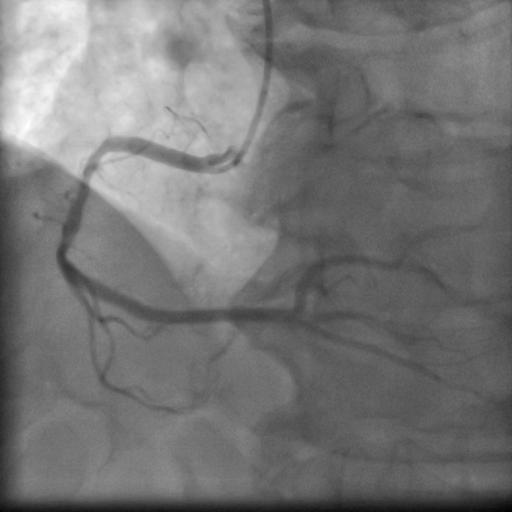Stenosis: (63, 132, 100, 253)
